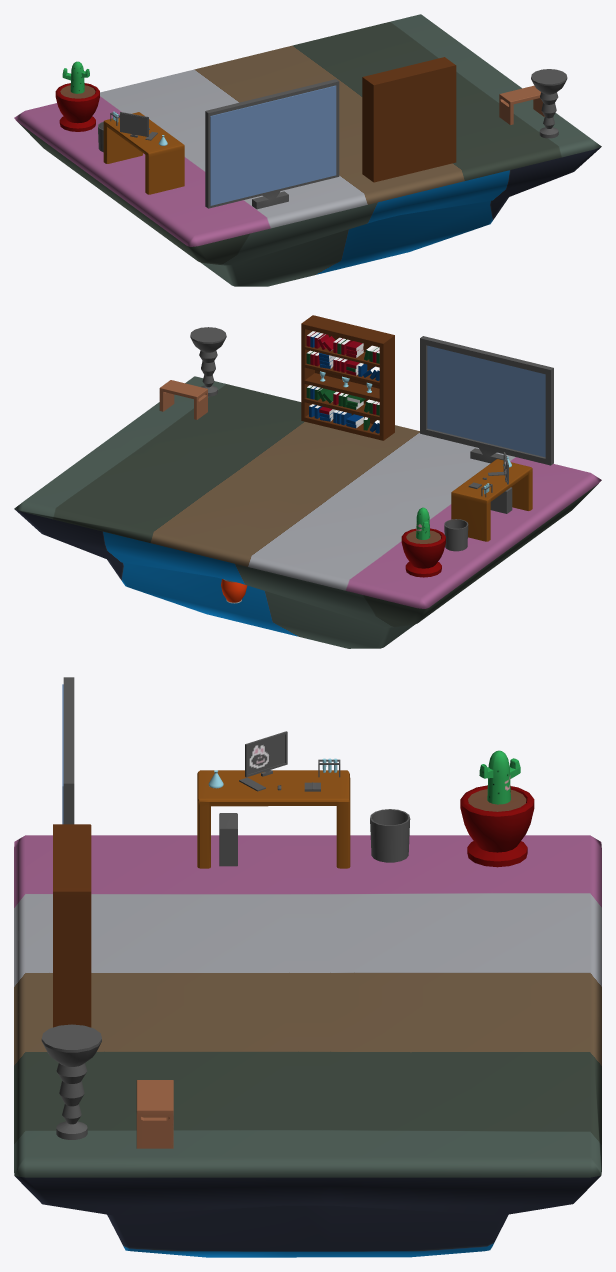
Rendered from MainMenuFix.fbx.
The picture shows the model from 3 angles, top to bottom: view 1: azimuth 30°, elevation 25°; view 2: azimuth 150°, elevation 25°; view 3: azimuth 270°, elevation 25°; orthographic projection. The views are drawn at different scales.
Parts seen in each view (by area): view 1: Island, polySurface4, bookshelf, DeskComp, Kruka, Pedestal, Bench, polySurface3, Cactus; view 2: Island, polySurface4, bookshelf, books1, DeskComp, Kruka, Pedestal, Bench, Bin, Engine; view 3: Island, bookshelf, DeskComp, Kruka, Pedestal, Bench, Bin, polySurface4, polySurface3, Cactus.
Part boxes in pixels (left/top/right/bottom): Island: left=14, top=14, right=601, bottom=286; polySurface4: left=205, top=79, right=339, bottom=209; bookshelf: left=362, top=57, right=456, bottom=182; DeskComp: left=103, top=112, right=184, bottom=194; Kruka: left=55, top=83, right=99, bottom=131; Pedestal: left=531, top=69, right=567, bottom=138; Bench: left=499, top=85, right=544, bottom=124; polySurface3: left=120, top=112, right=148, bottom=137; Cactus: left=62, top=61, right=89, bottom=93; Island: left=14, top=376, right=601, bottom=648; polySurface4: left=420, top=336, right=553, bottom=465; bookshelf: left=301, top=315, right=394, bottom=440; books1: left=306, top=331, right=379, bottom=433; DeskComp: left=451, top=459, right=532, bottom=541; Kruka: left=401, top=528, right=445, bottom=577; Pedestal: left=190, top=327, right=226, bottom=396; Bench: left=159, top=380, right=207, bottom=419; Bin: left=444, top=519, right=468, bottom=551; Engine: left=221, top=579, right=247, bottom=603; Island: left=14, top=835, right=601, bottom=1257; bookshelf: left=53, top=824, right=91, bottom=1027; DeskComp: left=197, top=770, right=350, bottom=868; Kruka: left=460, top=785, right=534, bottom=867; Pedestal: left=41, top=1024, right=101, bottom=1139; Bench: left=136, top=1080, right=173, bottom=1148; Bin: left=370, top=809, right=410, bottom=862; polySurface4: left=62, top=677, right=74, bottom=824; polySurface3: left=245, top=731, right=287, bottom=777; Cactus: left=479, top=750, right=520, bottom=804.
Size of the model in its own units: 26.09 by 15.24 by 19.37.
